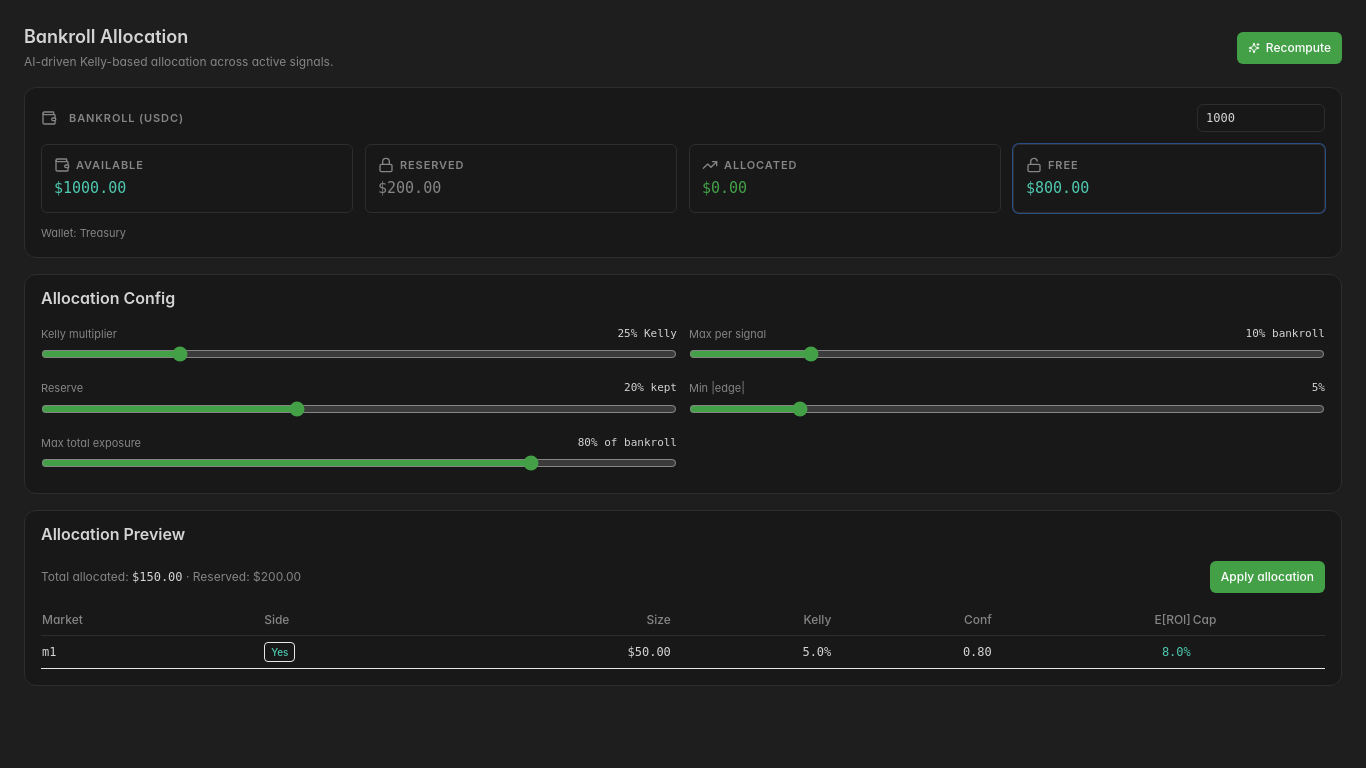
Test case: v0.89a — Bankroll.tsx branches round › bankroll 输入为 0 时隐藏 AllocationResultView
Expected: the button with test id "alloc-apply" is shown, [1210, 562, 1325, 594]
Note: 将 bankroll 设为 0 —— query 失效，无数据
Replace the text in the number field with test id "bankroll-input" with "0": point(1261, 118) [1197, 104, 1325, 132]
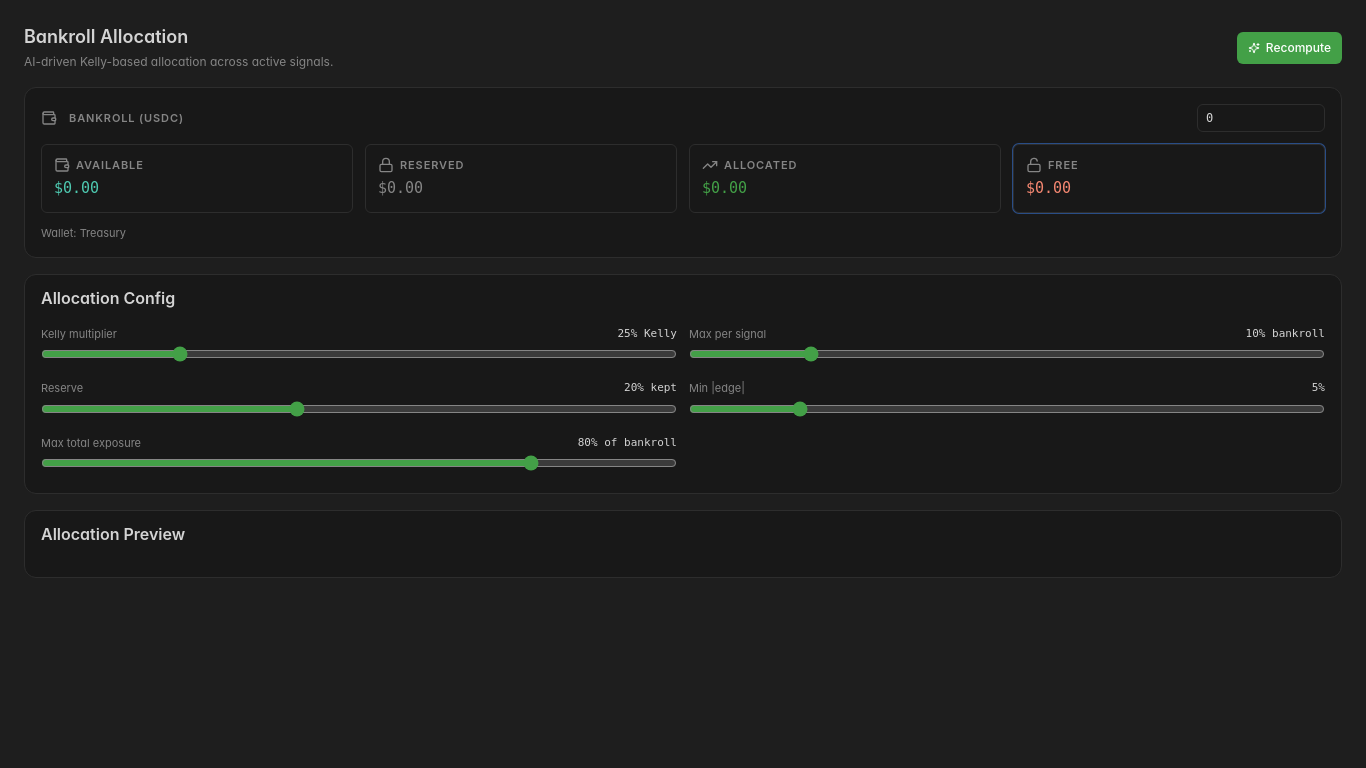
Expected: the button with test id "alloc-apply" is gone
